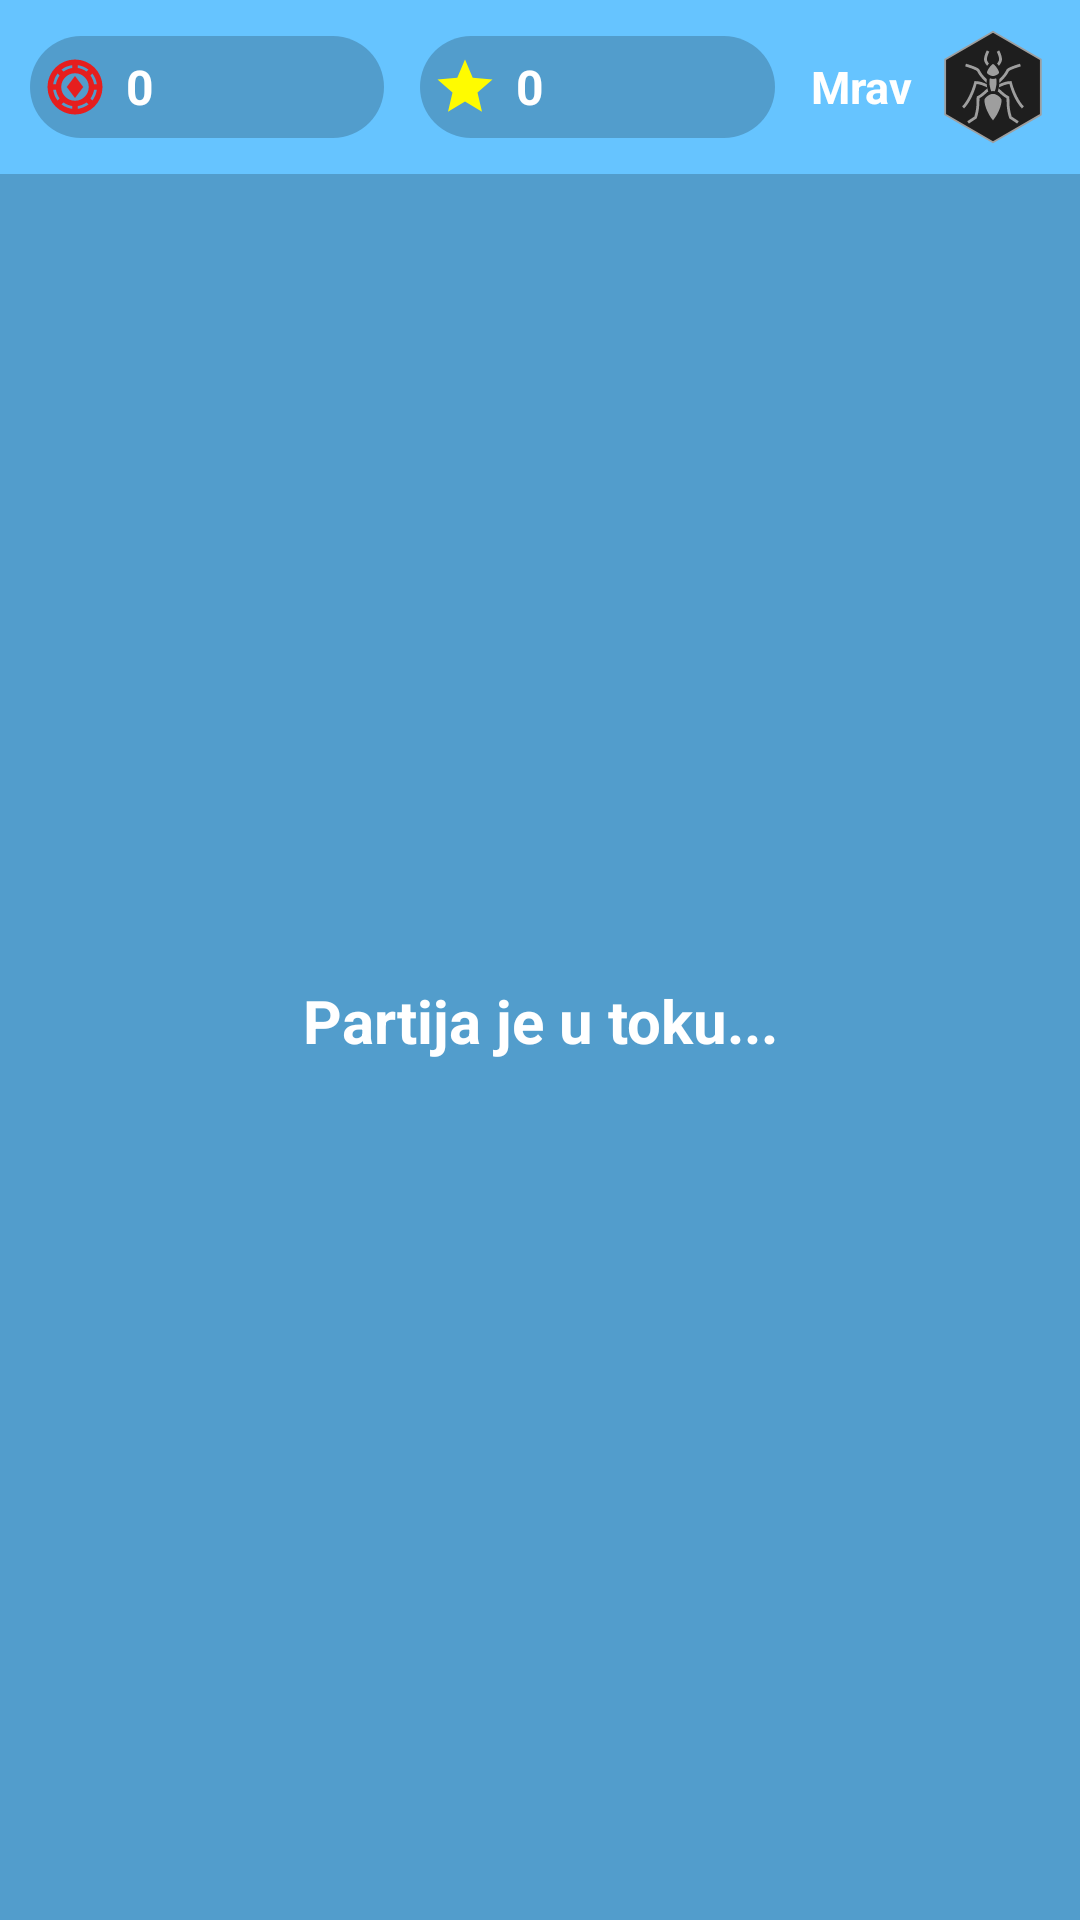

Point at icon controls on the screen. Image size 1080px×1920px, points as point (x, y).
Tokeni: point (75, 87)
Zvezde: point (465, 86)
